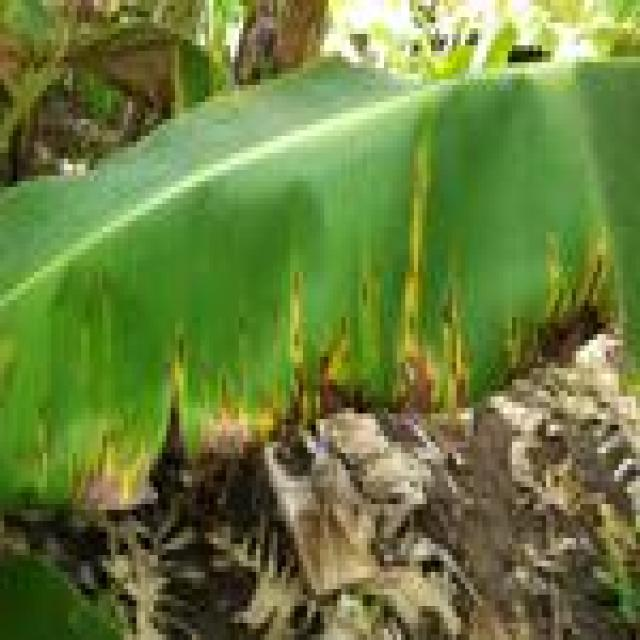Early_rust: (14, 132, 640, 508)
